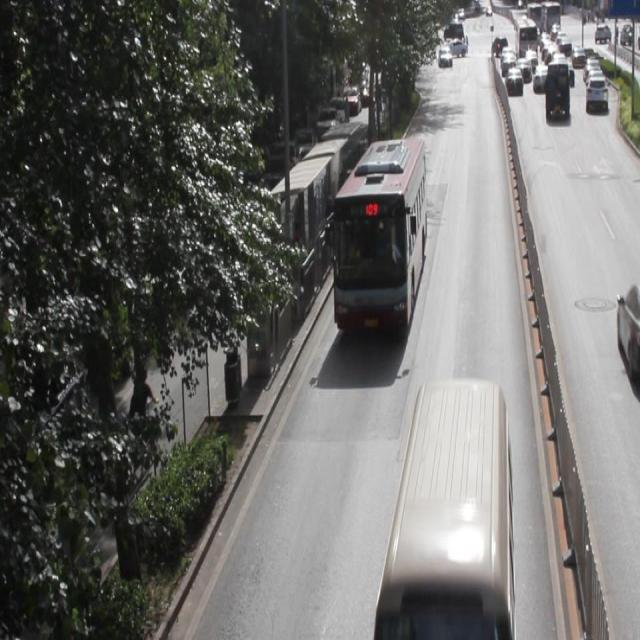car: (616, 285, 640, 385)
truck: (379, 379, 513, 640)
van: (333, 140, 424, 334)
